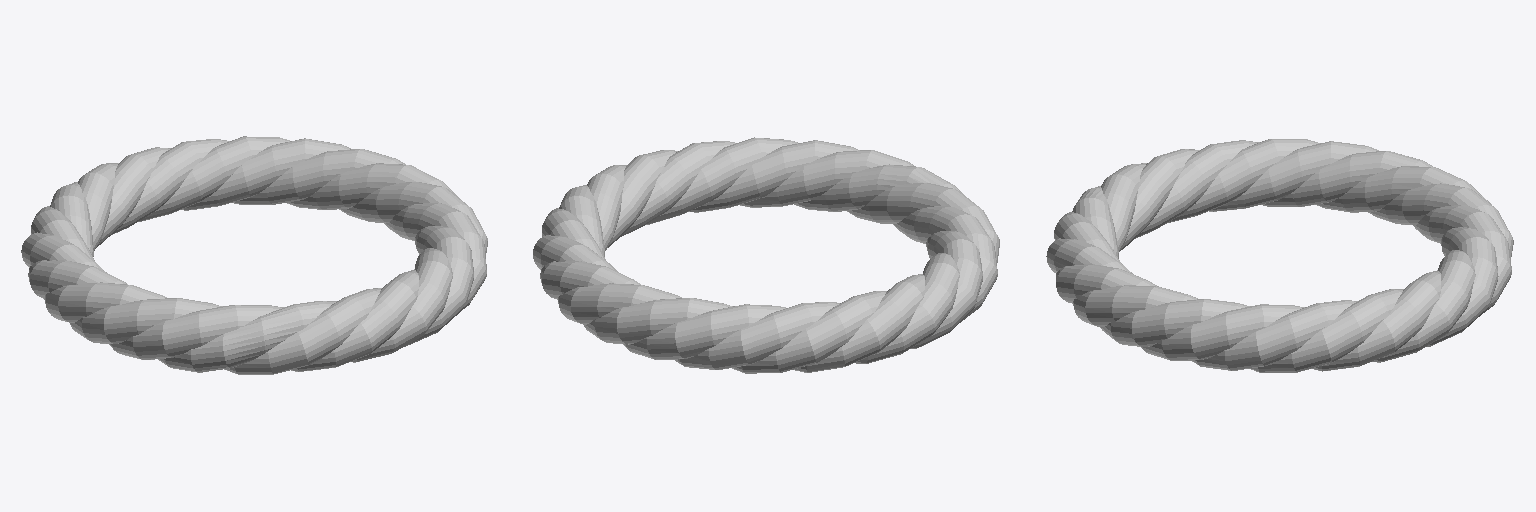
File: ring_toss_rope.obj
The picture shows the model from 3 angles: view 1: azimuth 30°, elevation 25°; view 2: azimuth 150°, elevation 25°; view 3: azimuth 270°, elevation 25°; orthographic projection.
Visible parts, largest first — view 1: 18851_Ring_Toss_Game_V1.002; view 2: 18851_Ring_Toss_Game_V1.002; view 3: 18851_Ring_Toss_Game_V1.002.
Part boxes in pixels (bbox=[...]): 18851_Ring_Toss_Game_V1.002: bbox=[21, 136, 487, 374]; 18851_Ring_Toss_Game_V1.002: bbox=[533, 137, 999, 373]; 18851_Ring_Toss_Game_V1.002: bbox=[1046, 139, 1513, 372].
Size of the model in its own units: 13.62 by 2.18 by 13.6.